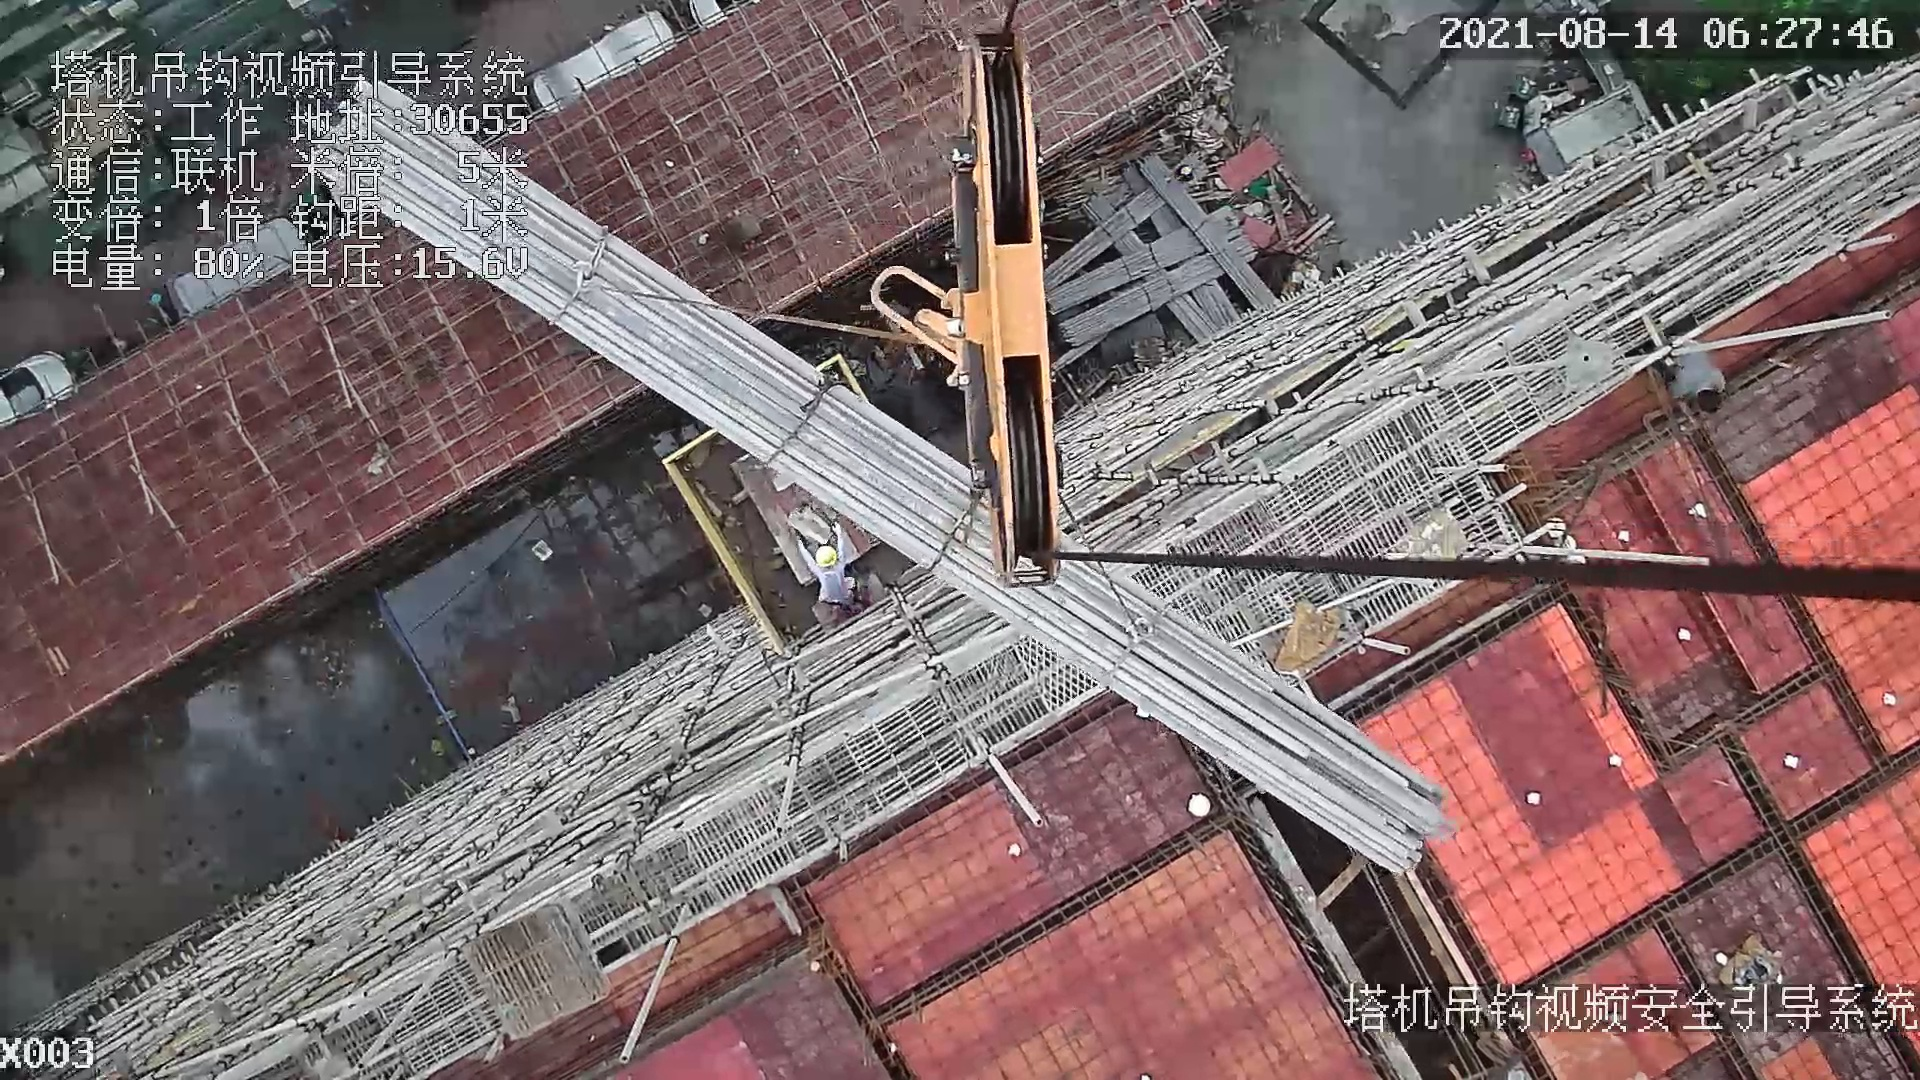helmet: (813, 535, 837, 571)
hook: (947, 28, 1064, 590)
person: (1663, 350, 1751, 418), (791, 521, 859, 607)
